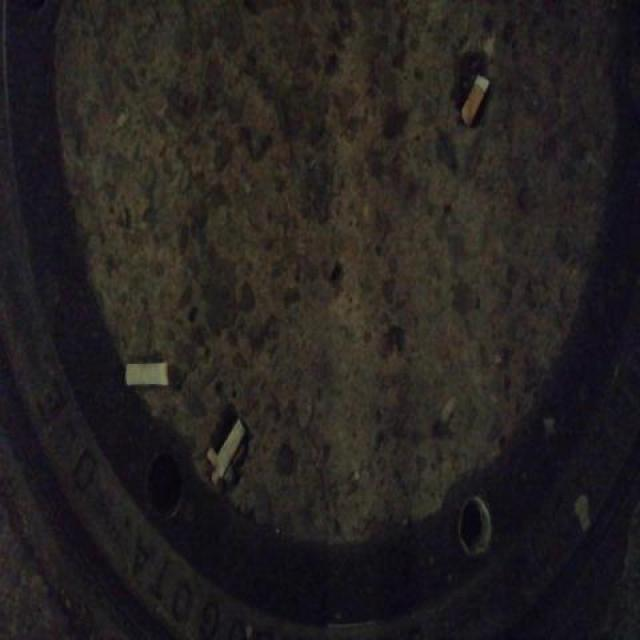non-organic waste: (215, 414, 249, 482), (457, 69, 492, 130), (121, 358, 172, 390)
